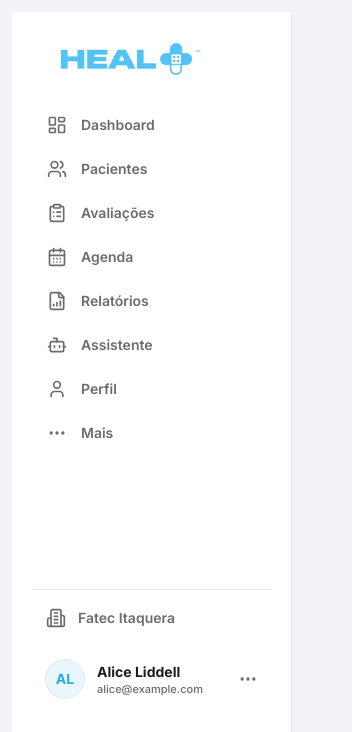
Sidebar › renderiza itens principais, instituicao e email
The width and height of the screenshot is (352, 732).
Expected: the text "Dashboard" is shown, [81,115,155,135]
Expected: the text "Pacientes" is shown, [81,159,147,179]
Note: Clica em "Mais" para abrir o dropdown
Step 1. Click the button "Mais" → [152, 433], box [32,412,271,454]
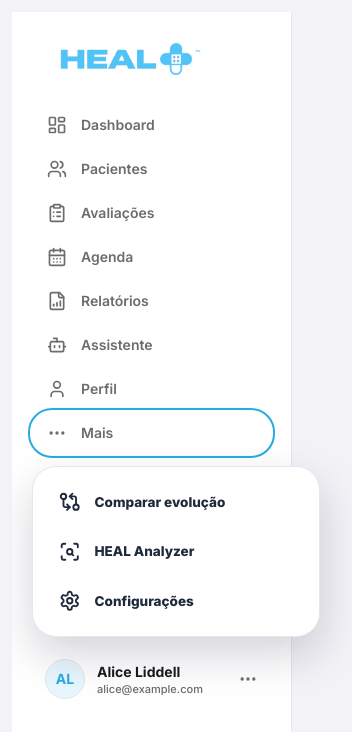
Now the menu item "Comparar evolução" is shown, box [59,491,225,512]
Now the menu item "HEAL Analyzer" is shown, box [59,540,194,562]
Now the menu item "Configurações" is shown, box [59,590,194,612]
